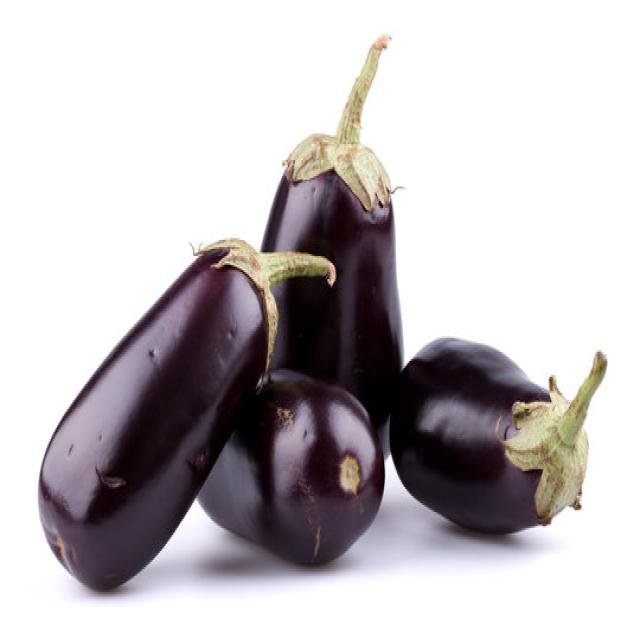Eggplant: (36, 235, 336, 590), (257, 32, 404, 443), (387, 334, 607, 535), (196, 367, 384, 566)
